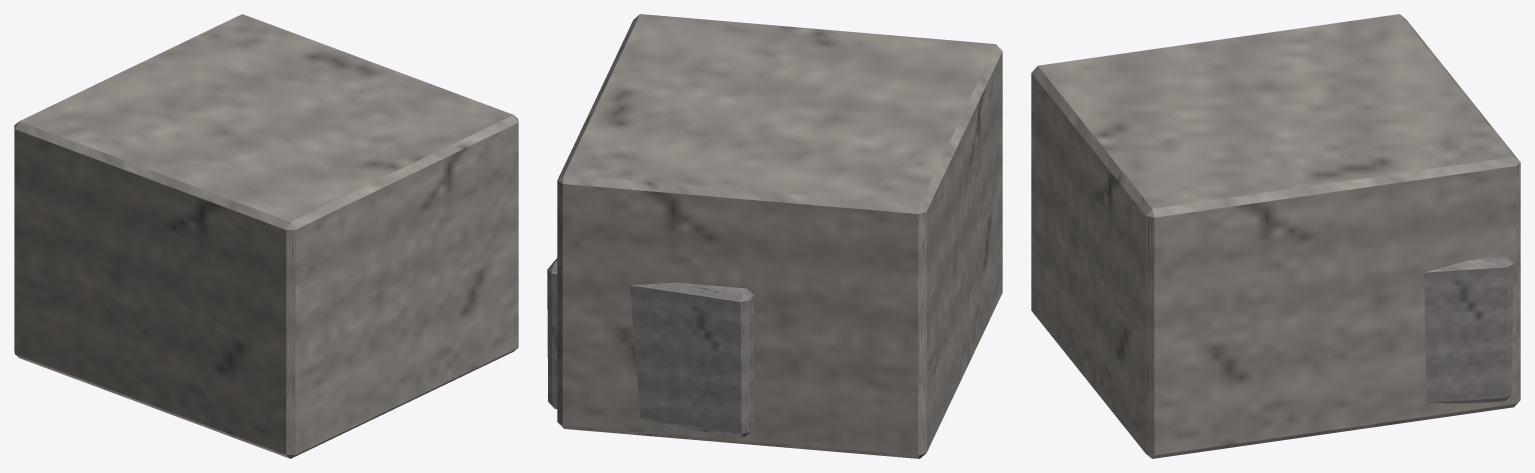
The model's file is Rocher_Moyen_C.obj.
3 views of the same model, side by side, from view 1: azimuth 30°, elevation 25°; view 2: azimuth 150°, elevation 25°; view 3: azimuth 270°, elevation 25° (orthographic). The views are drawn at different scales.
Parts seen in each view (by area): view 1: Rocher_Moyen_C; view 2: Rocher_Moyen_C; view 3: Rocher_Moyen_C.
Part boxes in pixels (x1,y1,x2,y2): Rocher_Moyen_C: (14, 14, 518, 458); Rocher_Moyen_C: (547, 14, 1002, 458); Rocher_Moyen_C: (1031, 14, 1520, 458).
Bounding box in the file's own units: 4.14 × 2.41 × 4.27.
Materials: 1 (1 with a texture image).
